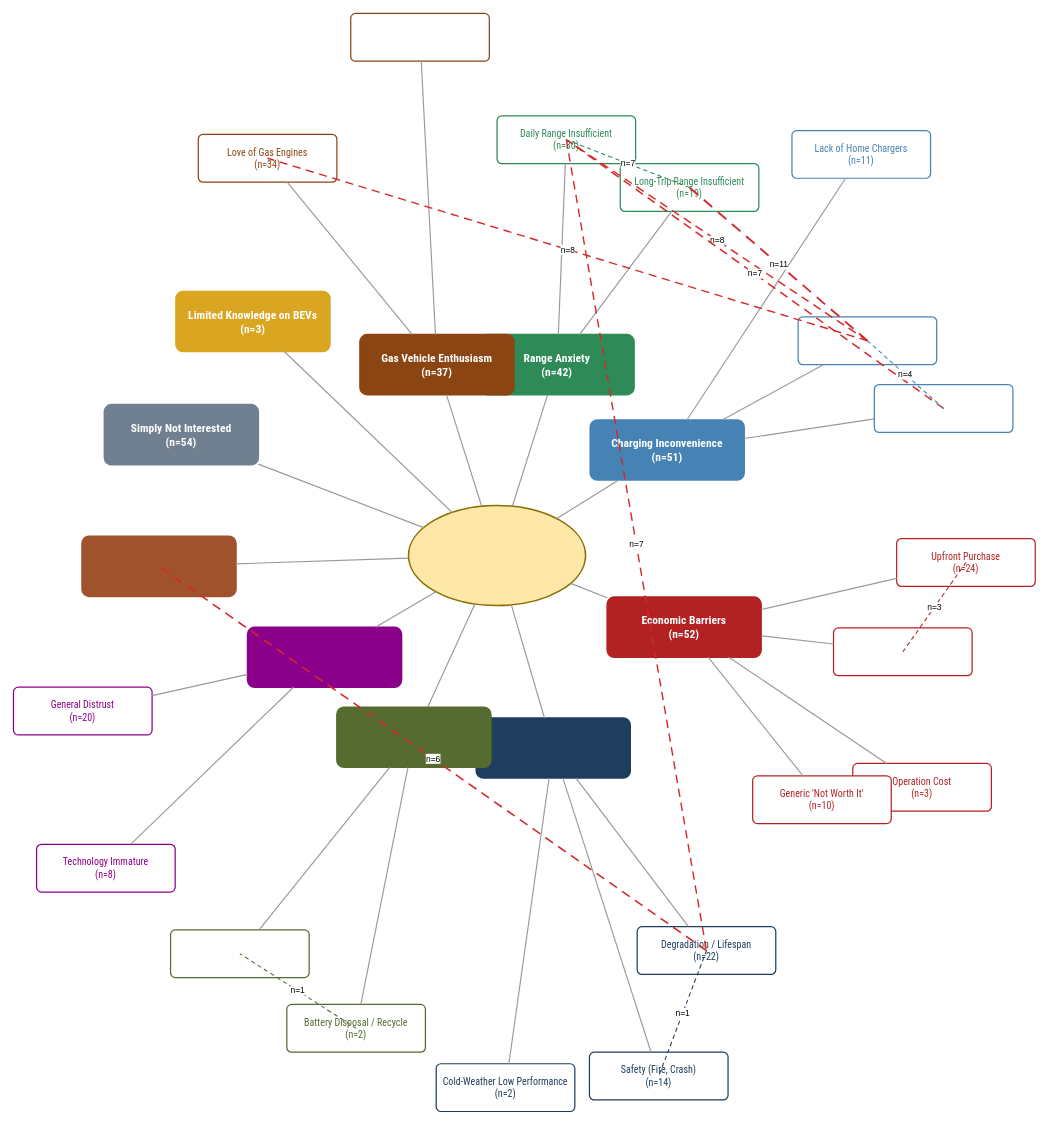
The diagram is 1050 pixels wide and 1126 high, and some of its shapes have lost their labels. The centre of each missing label's shape, as x and y in pixels:
"Battery Concerns (n=37)" belongs at (553,747).
"BEVs Missing Certain Vehicle Features (n=3)" belongs at (420,36).
"Charging Time (n=16)" belongs at (943,408).
"Environmental Concerns (n=8)" belongs at (413,737).
"EV Distrust (n=28)" belongs at (324,657).
"Lack of Public Chargers (n=28)" belongs at (867,340).
"Maintenance / Repair (n=18)" belongs at (902,651).
"Overall 'Green' Skepticism (n=7)" belongs at (239,953).
"Reasons for Not Selecting any Used BEVs (N=209)" belongs at (496,555).
"Used Vehicle Distrust (n=13)" belongs at (158,566).
